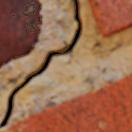brick: (0, 75, 131, 131), (0, 0, 42, 69), (86, 0, 131, 38)
crack: (0, 0, 82, 129)
